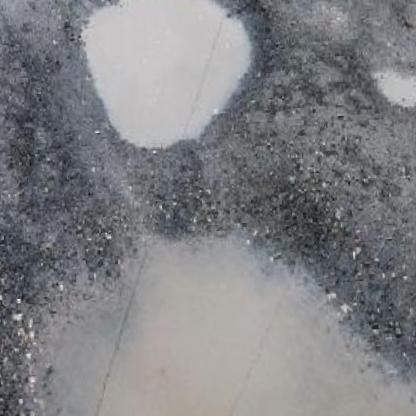pothole: (0, 154, 416, 416), (61, 0, 273, 158), (371, 54, 416, 113)
